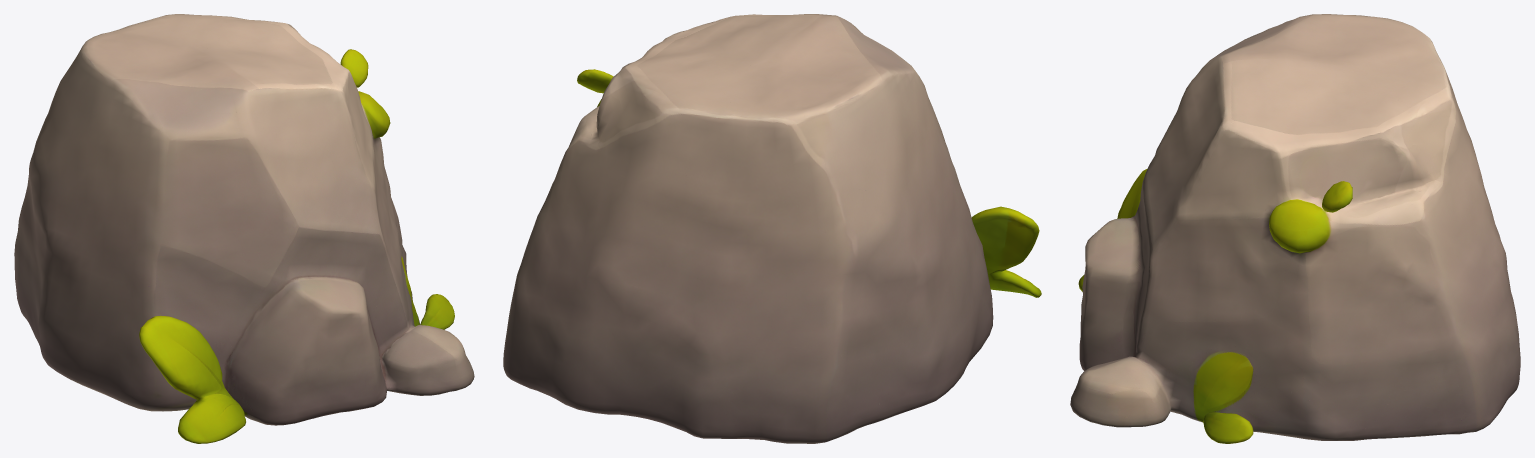
The model's file is large_rock.glb.
3 views of the same model, side by side, from view 1: azimuth 30°, elevation 25°; view 2: azimuth 150°, elevation 25°; view 3: azimuth 270°, elevation 25° (orthographic). The views are drawn at different scales.
Parts seen in each view (by area): view 1: Mesh_0.002; view 2: Mesh_0.002; view 3: Mesh_0.002.
Boxes of the visible parts, x1,y1,x2,y2 form: Mesh_0.002: (14,14,474,443); Mesh_0.002: (503,14,1041,443); Mesh_0.002: (1070,14,1520,443).
Size of the model in its own units: 0.1532 by 0.12 by 0.1626.
Materials: 1 (1 with a texture image).
